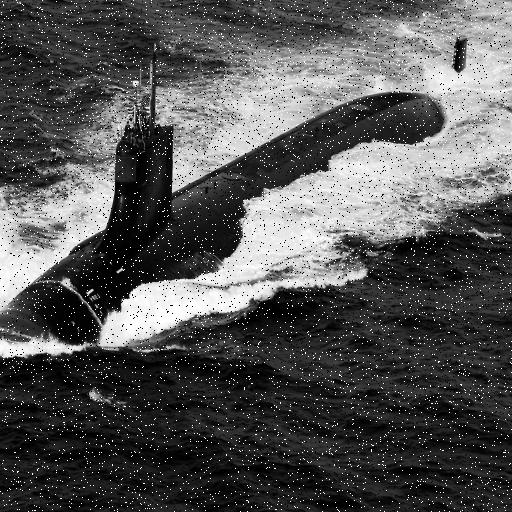submarine: (1, 21, 478, 372)
